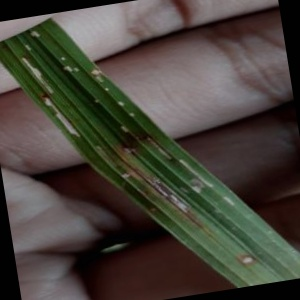Brown_Spot: (144, 166, 194, 230), (141, 124, 187, 168), (19, 50, 58, 100), (46, 95, 84, 144), (112, 134, 151, 167), (96, 137, 120, 177), (143, 198, 170, 219)
